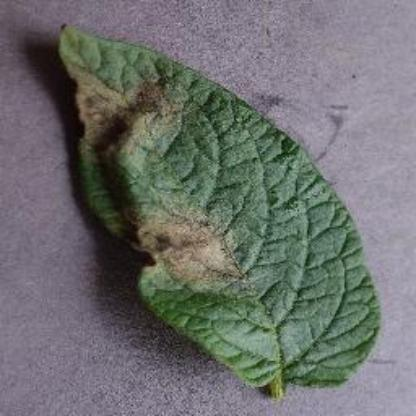Late-Blight: (40, 17, 384, 397)
